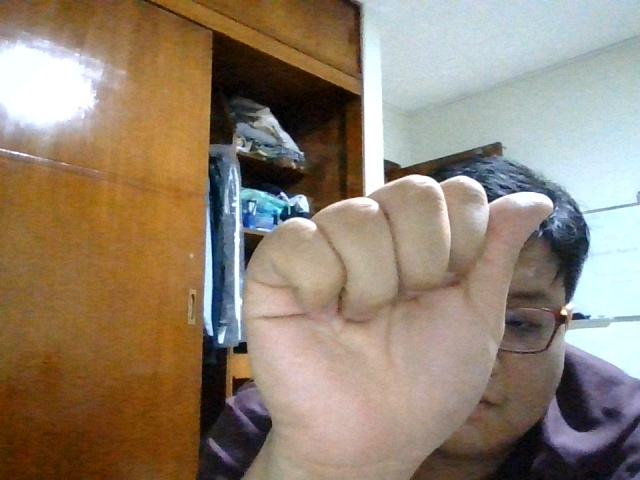a: (226, 171, 556, 440)
